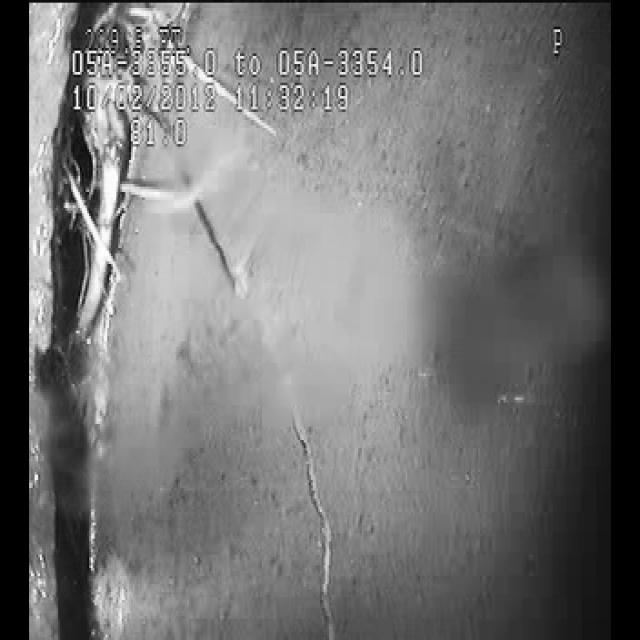Crack: (180, 164, 348, 560)
